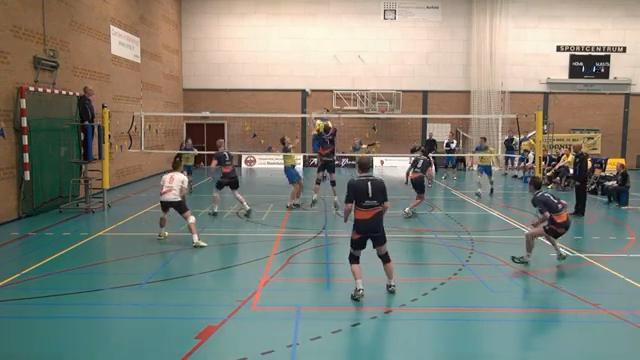attacco: (307, 107, 333, 148)
muro: (306, 110, 345, 218)
